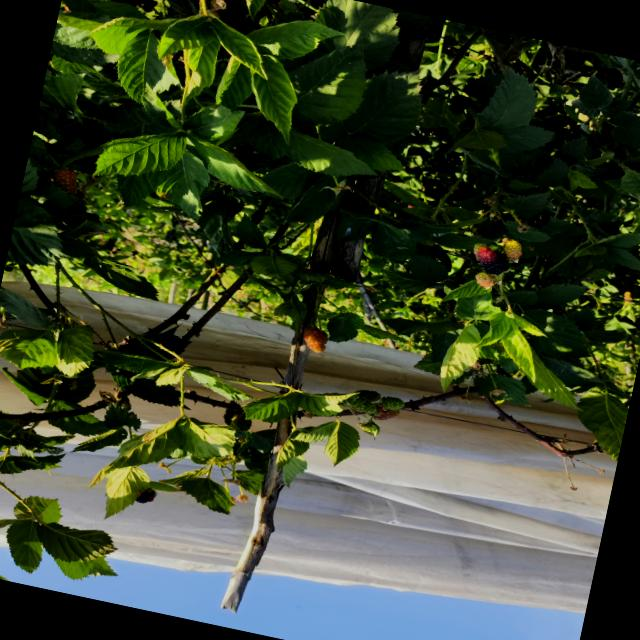marron: (473, 245, 509, 274)
naranja: (53, 168, 77, 195), (303, 328, 327, 353), (373, 405, 399, 420)
verde: (351, 397, 376, 414), (503, 239, 521, 260), (357, 421, 379, 437), (475, 272, 495, 288), (382, 396, 404, 410), (358, 389, 381, 402)
